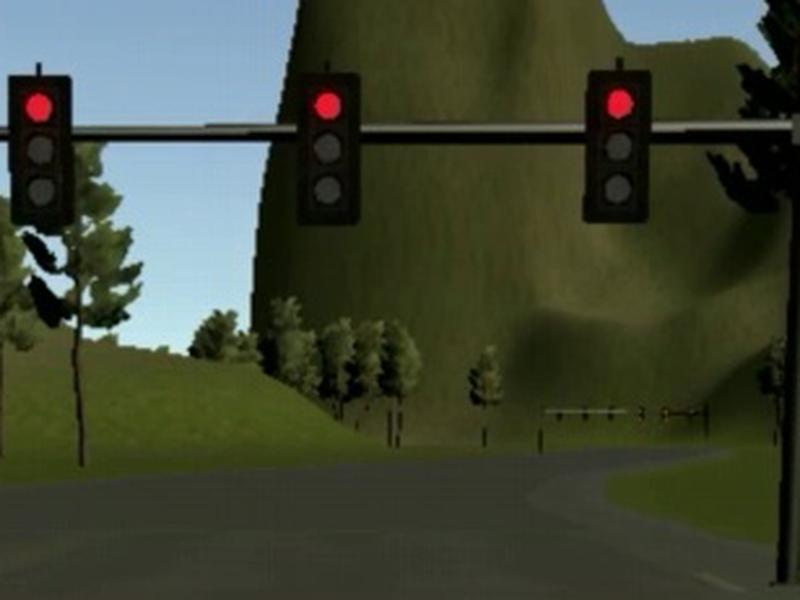Red: (8, 75, 74, 225), (587, 70, 651, 224), (299, 73, 361, 223)
